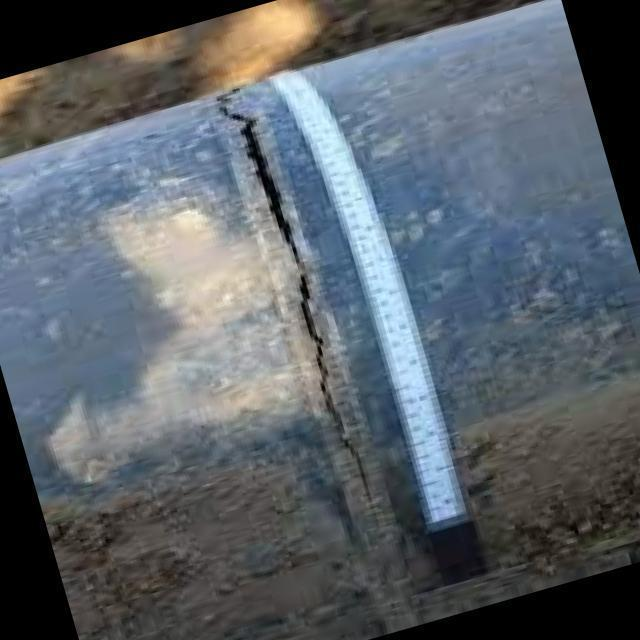defect: (207, 80, 382, 541)
